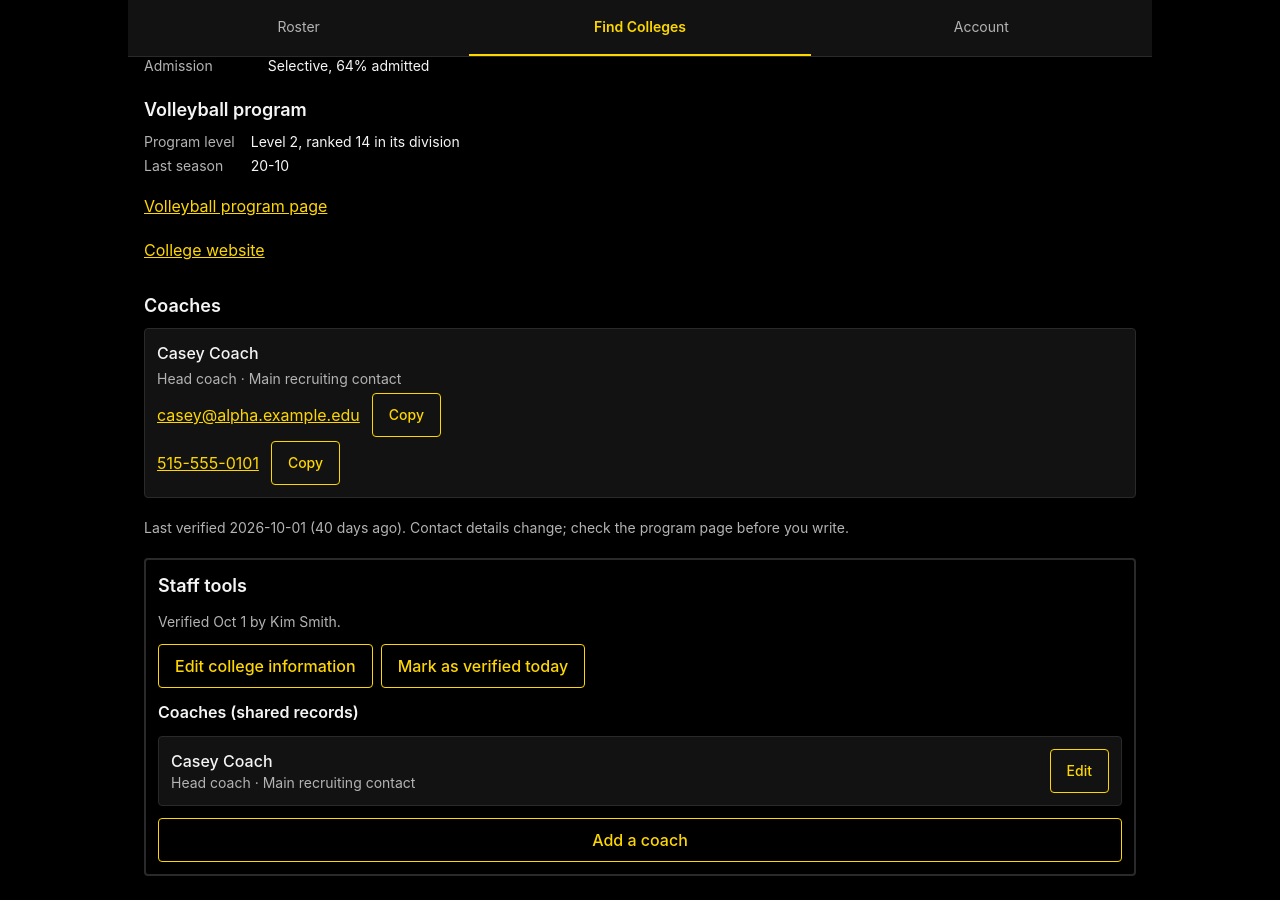
Scenario: accessibility: staff screens › the college edit forms
(page scrolled)
Click the button "Edit college information" at (265, 666), box [158,644,373,688]
(page scrolled)
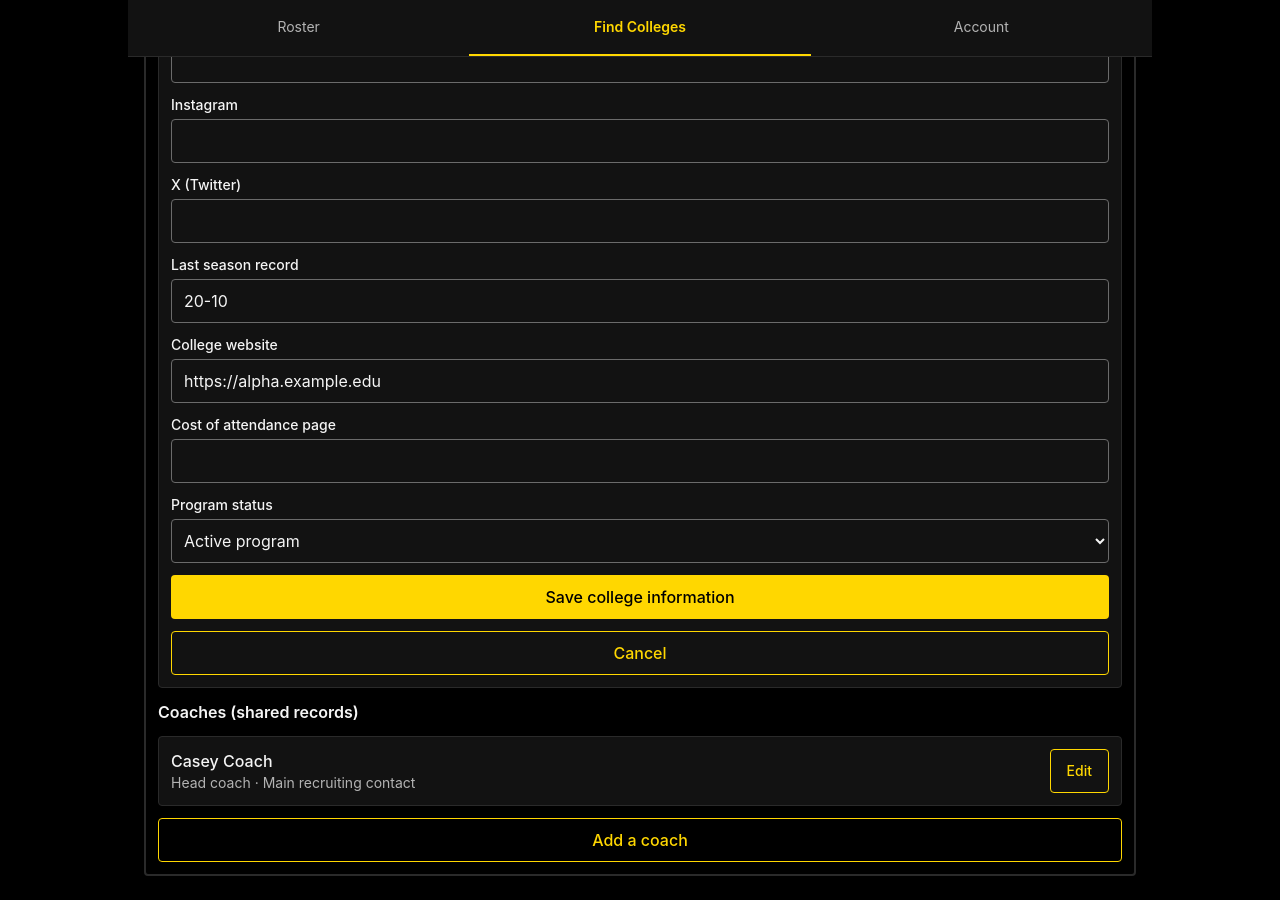
Click the button "Add a coach" at (640, 840), box [158,818,1122,862]
(page scrolled)
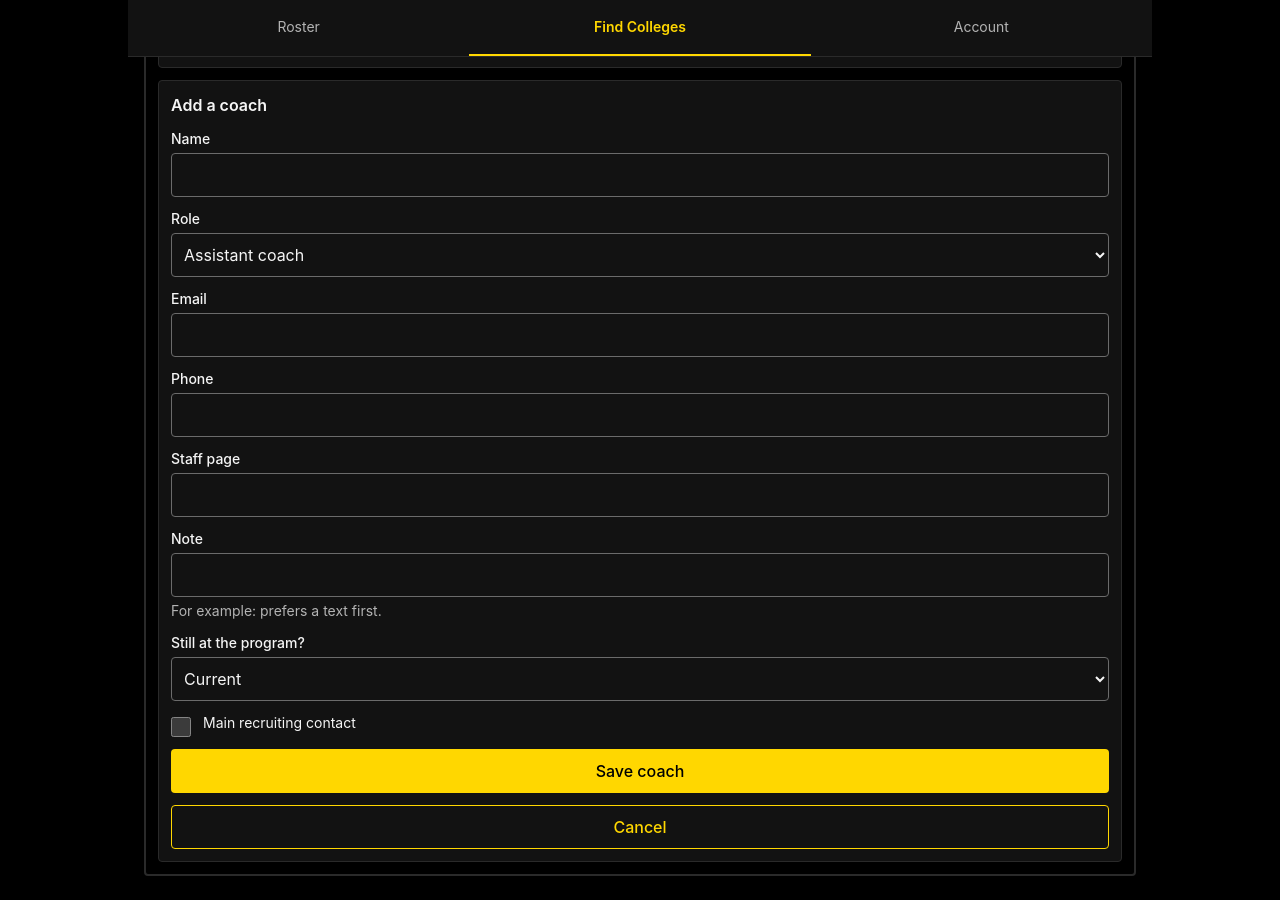
Result: the form "Add a coach" is shown
